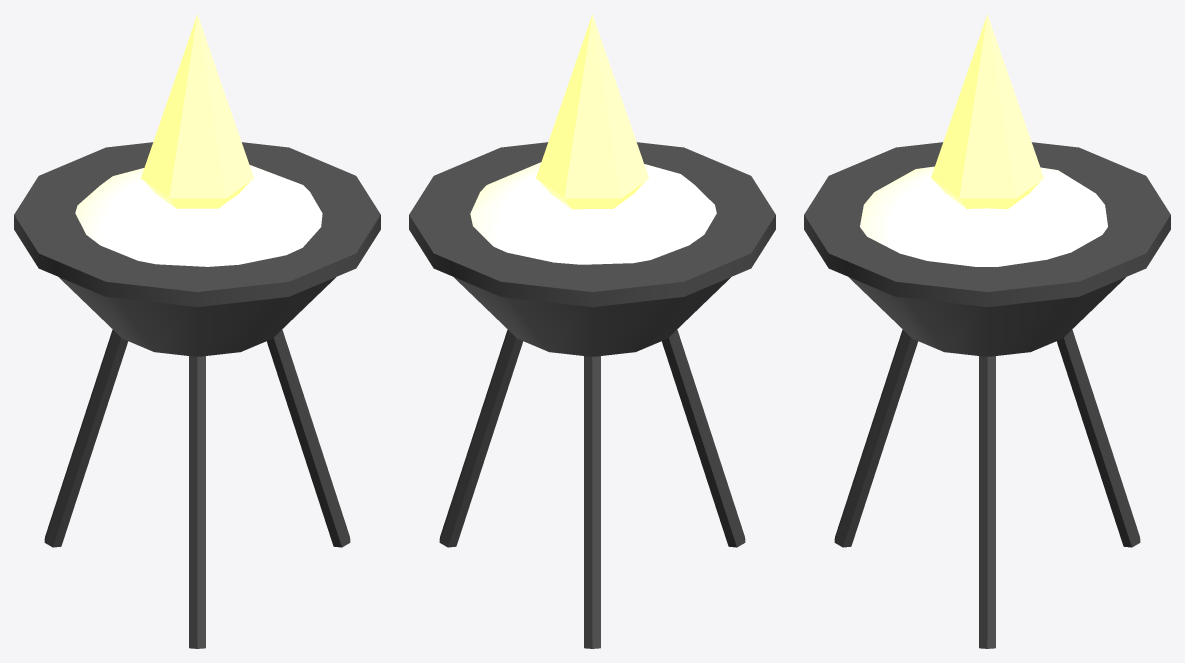
The model's file is brazier.glb.
3 views of the same model, side by side, from view 1: azimuth 30°, elevation 25°; view 2: azimuth 150°, elevation 25°; view 3: azimuth 270°, elevation 25° (orthographic).
Parts seen in each view (by area): view 1: iron, glow, flame; view 2: iron, glow, flame; view 3: iron, glow, flame.
Part boxes in pixels (x1,y1,x2,y2): iron: (14,142,380,648); glow: (75,165,322,266); flame: (141,14,253,208); iron: (409,142,775,648); glow: (470,162,716,264); flame: (536,14,648,209); iron: (804,142,1170,648); glow: (860,166,1107,266); flame: (931,14,1043,209).
Bounding box in the file's own units: 1.1 × 1.87 × 1.1.
